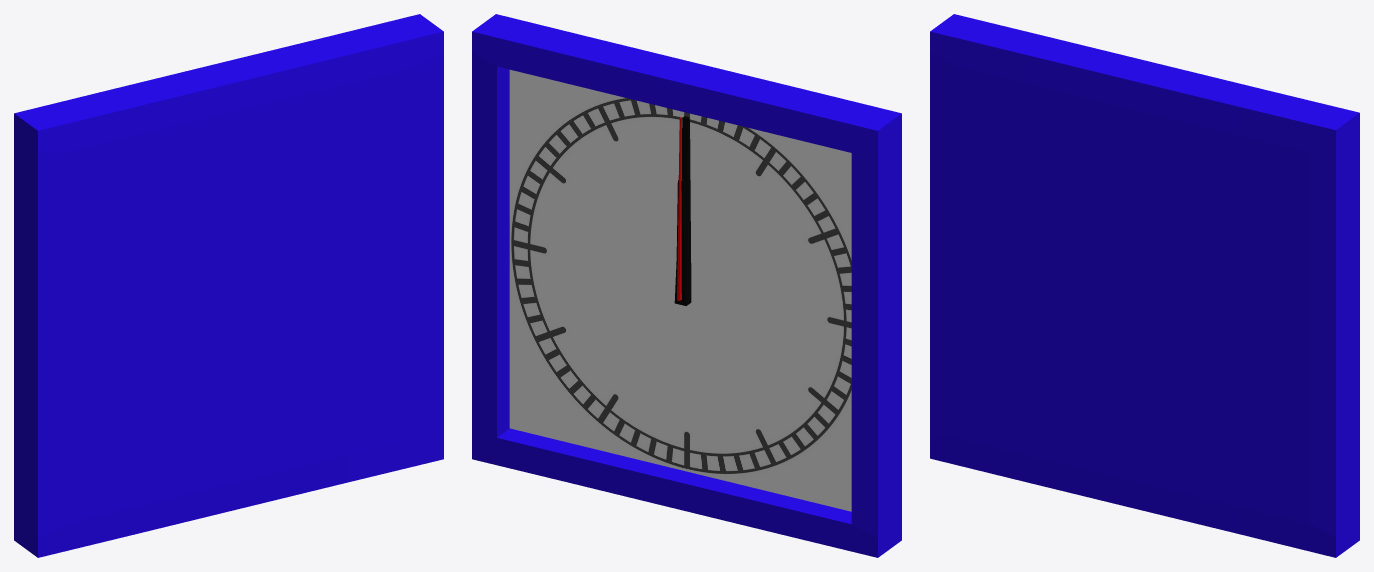
The model's file is Clock2v2.fbx.
3 renders of one model, left to right at view 1: azimuth 30°, elevation 25°; view 2: azimuth 150°, elevation 25°; view 3: azimuth 330°, elevation 25°, orthographic.
Visible parts, largest first — view 1: Cube; view 2: Cube, Minutes, Hours, Seconds; view 3: Cube.
Boxes of the visible parts, x1,y1,x2,y2 form: Cube: (14, 14, 443, 557); Cube: (472, 14, 901, 557); Minutes: (674, 116, 691, 305); Hours: (676, 179, 685, 300); Seconds: (677, 117, 681, 300); Cube: (930, 14, 1359, 557).
Bounding box in the file's own units: 199 × 200 × 21.29.
